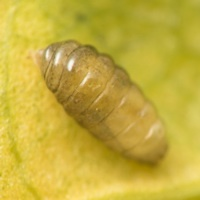insect: (35, 40, 166, 162)
